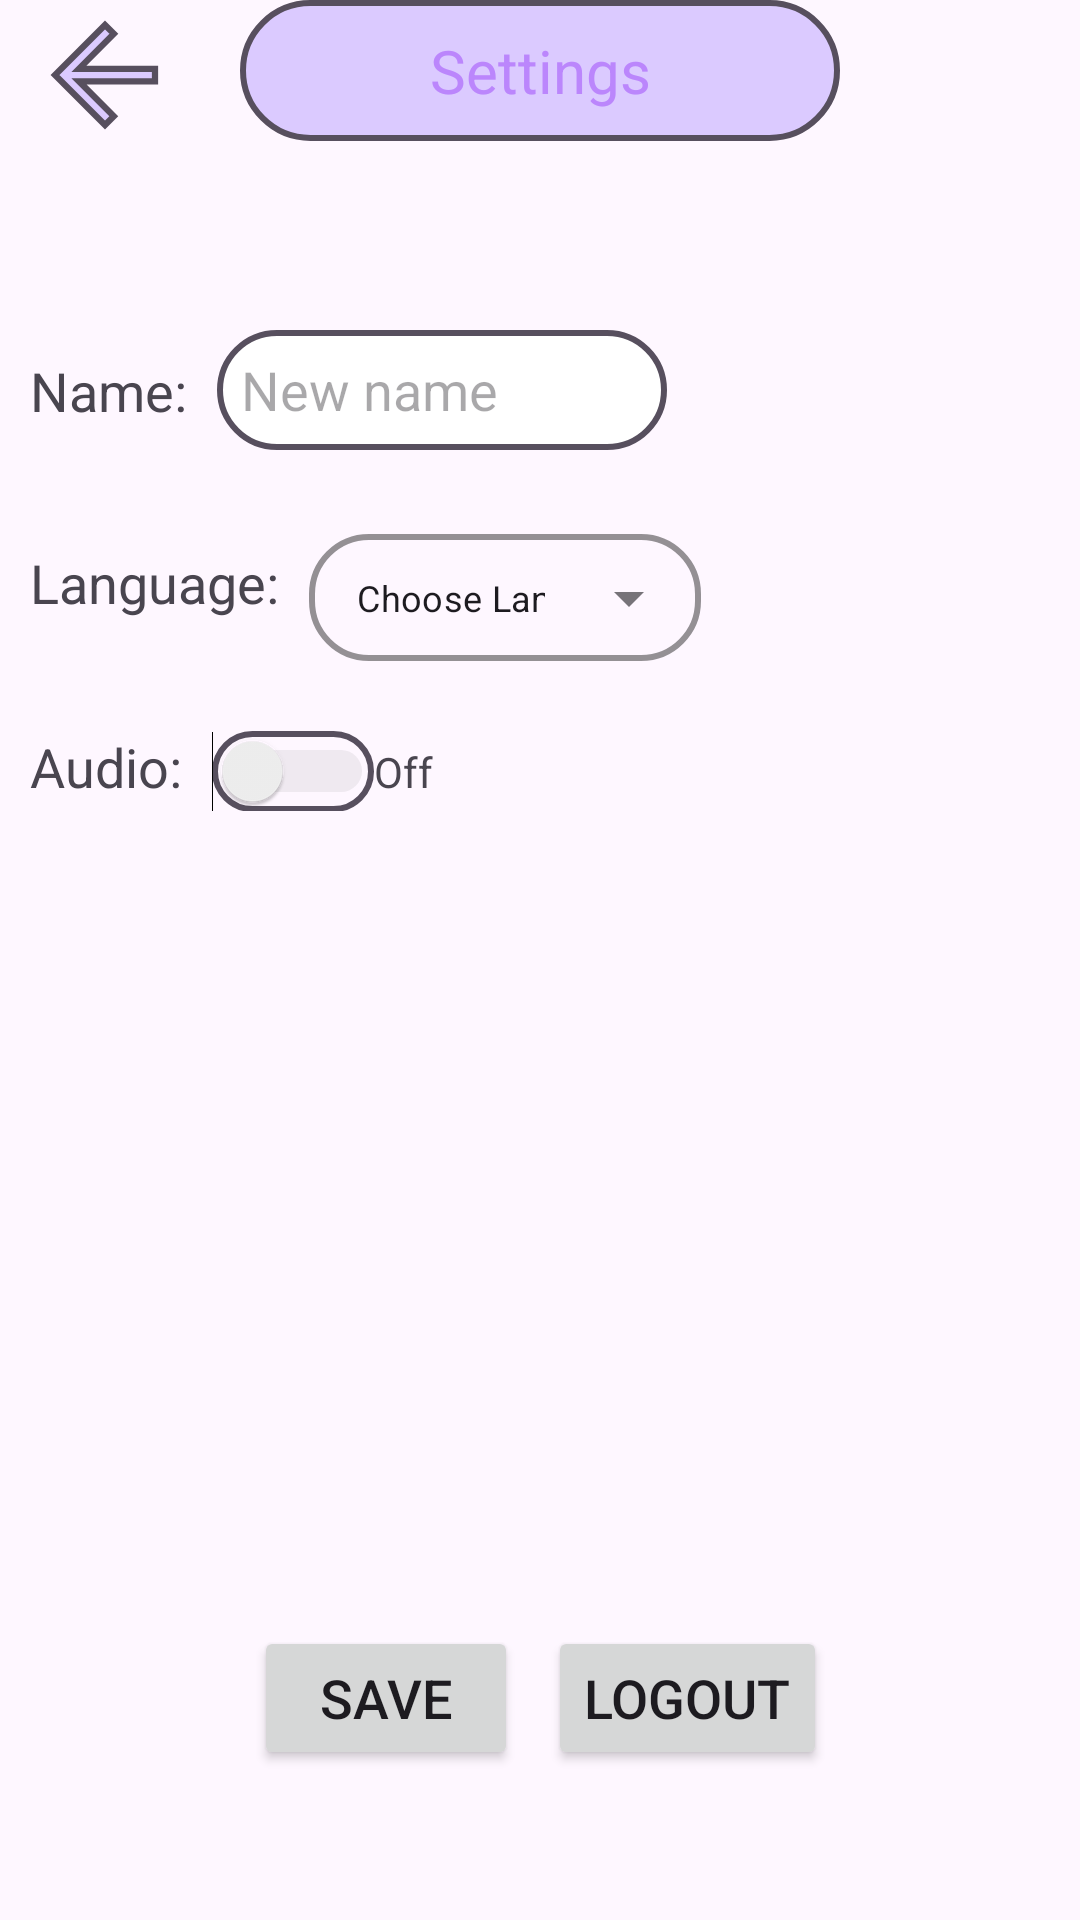

Named icons in this screenshot (1080 × 1920) and their bounding boxes, rect(x1, y1, x2, y2):
arrow back: rect(51, 21, 158, 129)
